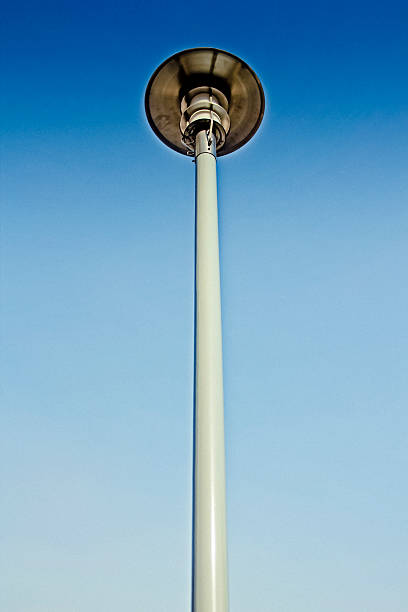light_pole: (189, 156, 230, 612)
